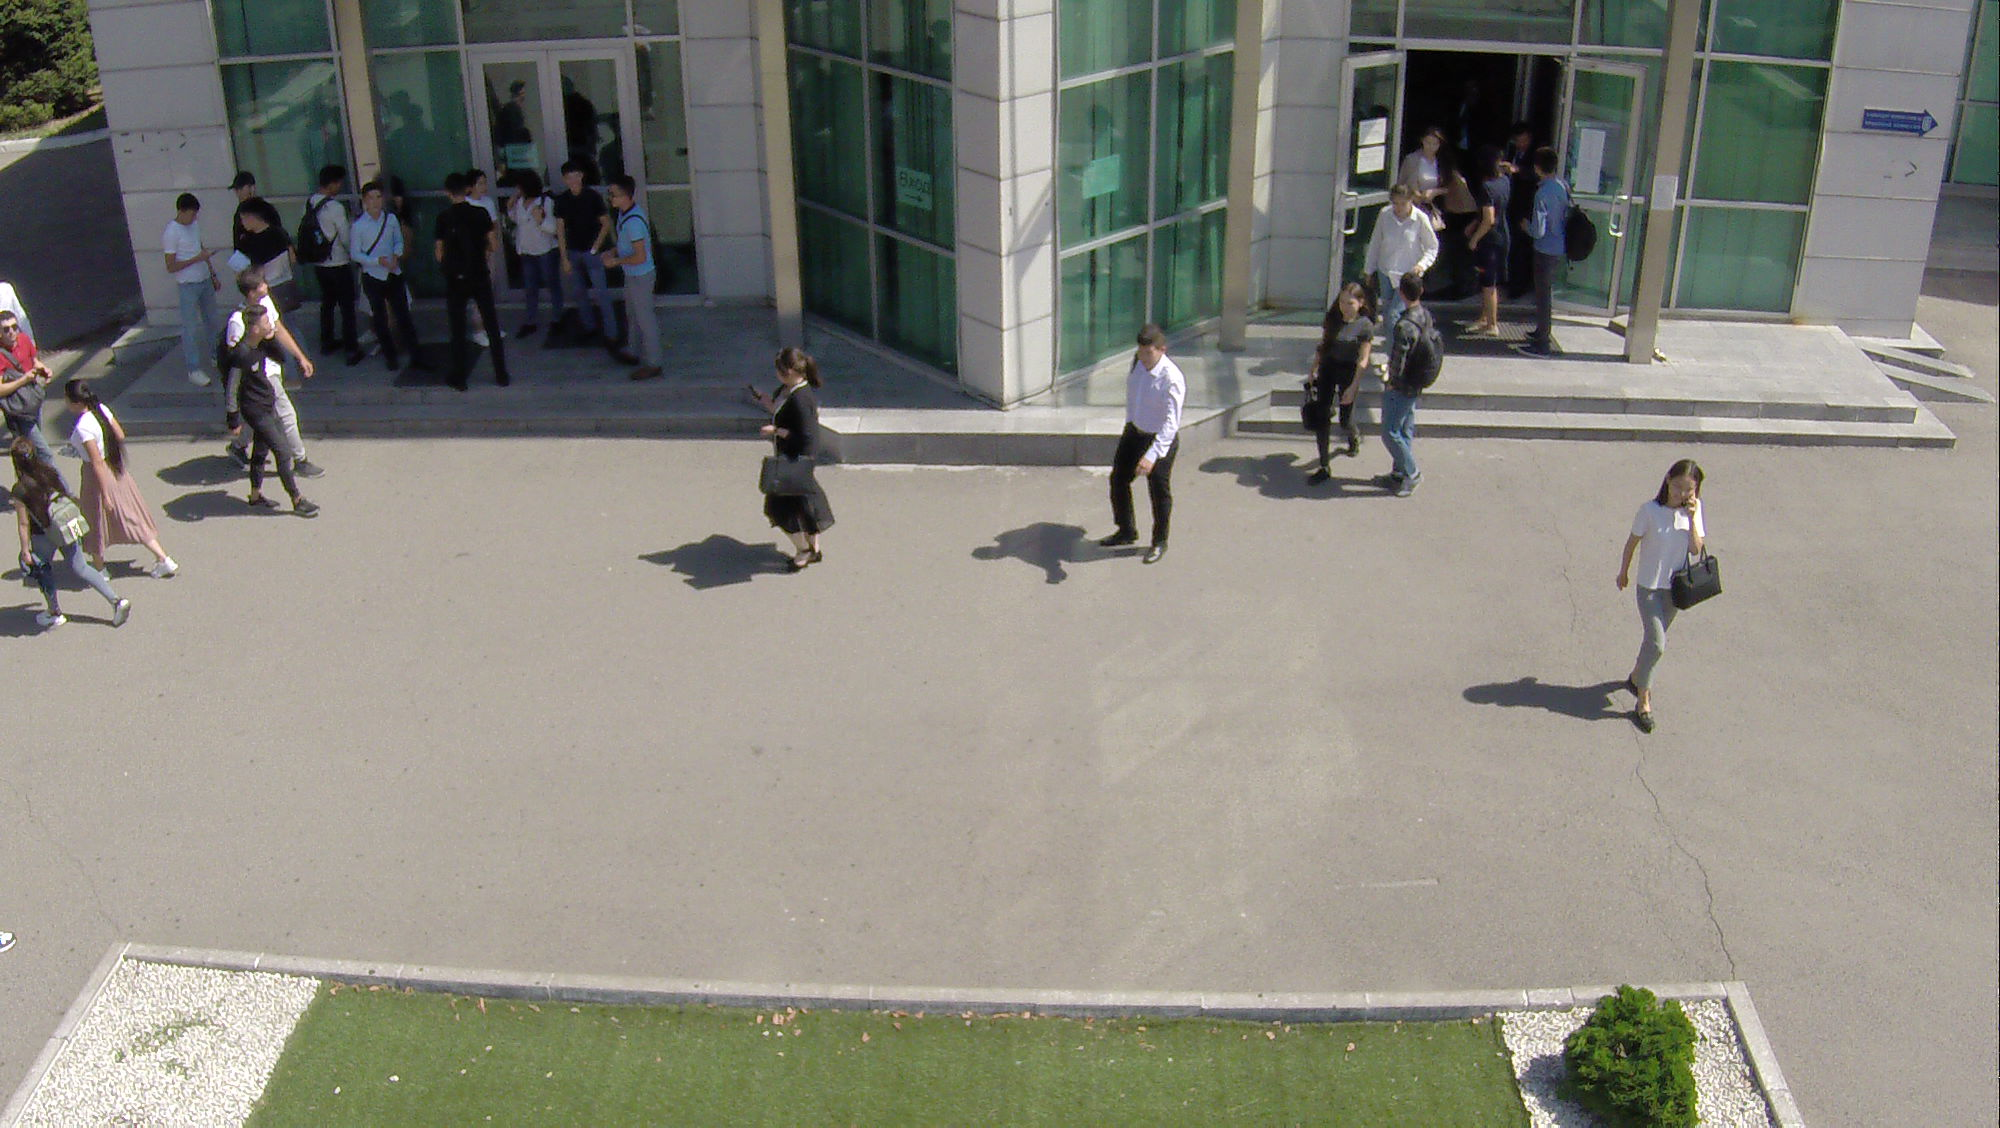person: (1617, 436, 1729, 763), (1, 432, 136, 640), (55, 371, 179, 593), (728, 348, 841, 584), (1356, 268, 1464, 503), (1099, 316, 1191, 571), (224, 313, 322, 520), (431, 182, 517, 391), (601, 168, 676, 389), (344, 176, 424, 375), (159, 182, 236, 387), (301, 157, 369, 354), (547, 154, 617, 345), (1312, 273, 1371, 498), (505, 166, 576, 336), (229, 191, 300, 316), (1363, 184, 1433, 287), (1, 300, 44, 428), (232, 171, 269, 207)
